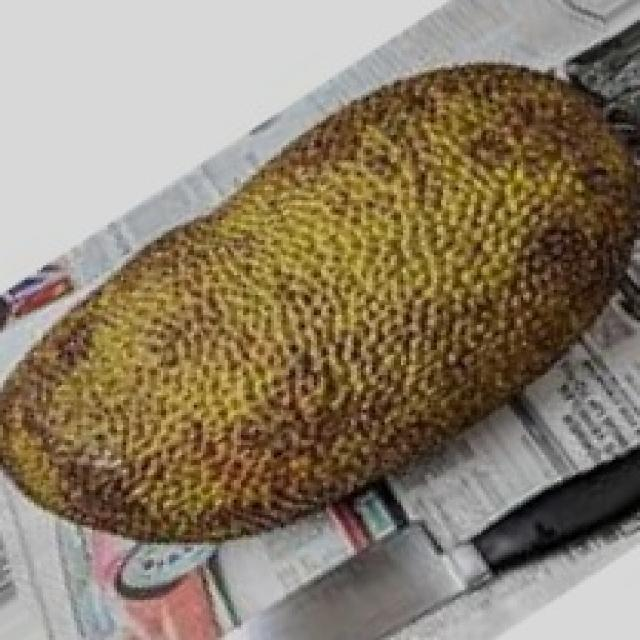Fruit: (227, 32, 640, 395), (0, 213, 400, 575)
